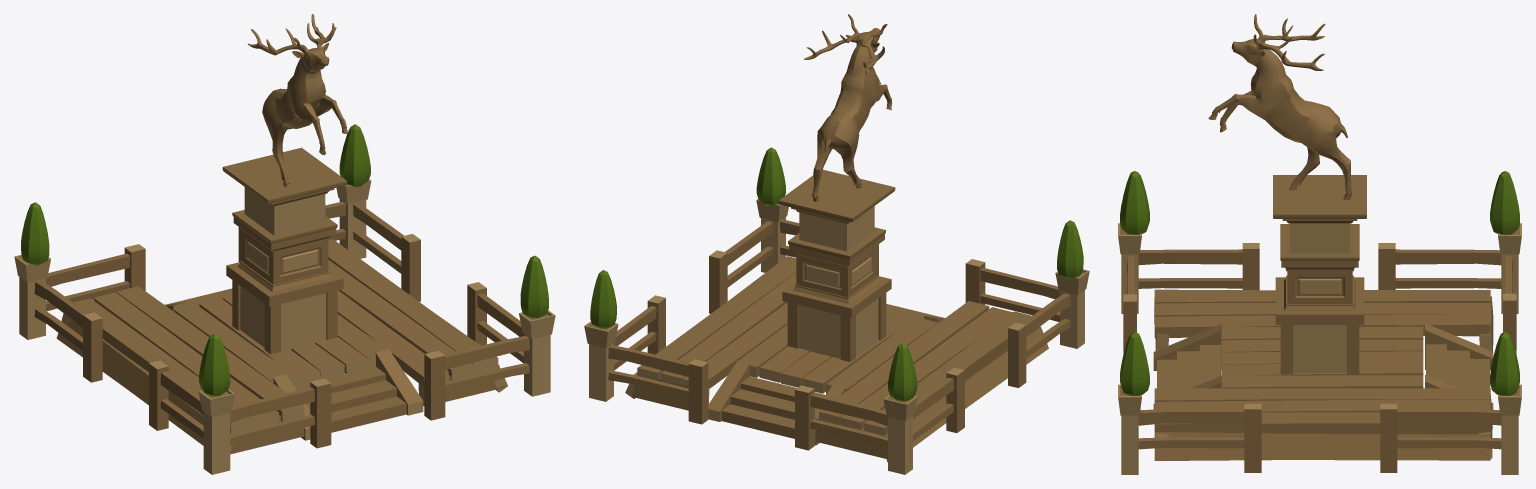
File: Town Center-76GTkSh4KM.glb
3 renders of one model, left to right at view 1: azimuth 30°, elevation 25°; view 2: azimuth 150°, elevation 25°; view 3: azimuth 270°, elevation 25°, orthographic. The views are drawn at different scales.
Visible parts, largest first — view 1: Town Center-76GTkSh4KM; view 2: Town Center-76GTkSh4KM; view 3: Town Center-76GTkSh4KM.
Boxes of the visible parts, left/top/right/bottom form: Town Center-76GTkSh4KM: left=14, top=14, right=555, bottom=474; Town Center-76GTkSh4KM: left=584, top=14, right=1089, bottom=474; Town Center-76GTkSh4KM: left=1118, top=14, right=1521, bottom=474.
Size of the model in its own units: 1.26 by 1.25 by 1.24.
